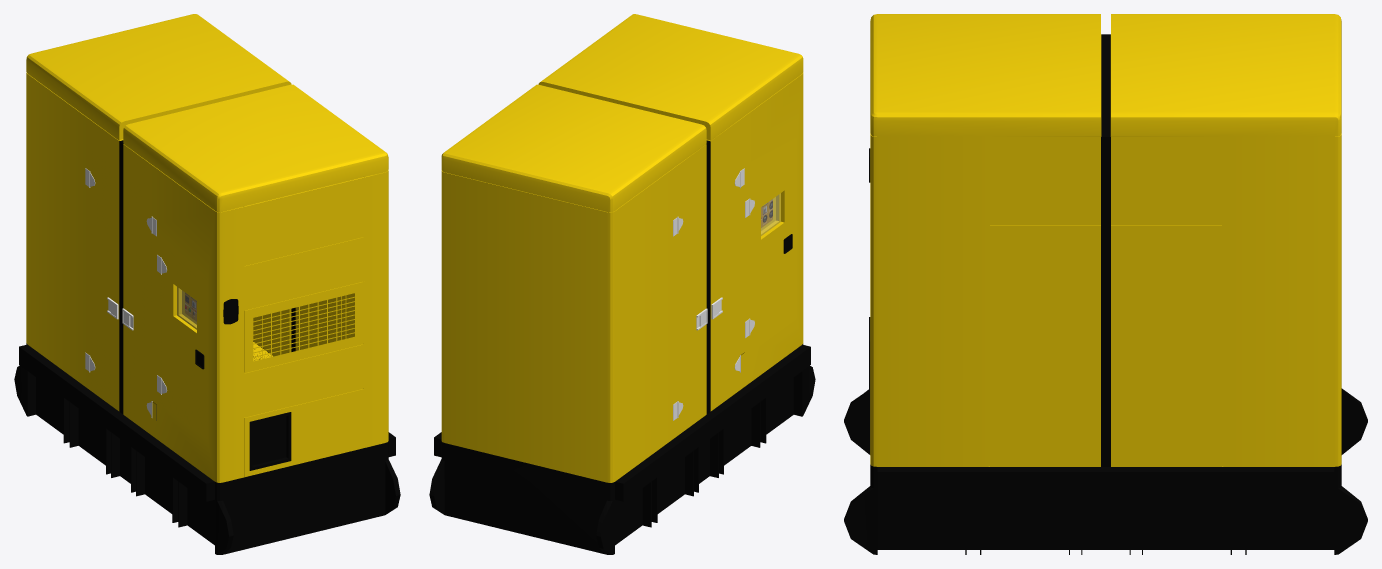
File: electric_generator.glb
The picture shows the model from 3 angles, left to right: view 1: azimuth 30°, elevation 25°; view 2: azimuth 150°, elevation 25°; view 3: azimuth 270°, elevation 25°; orthographic projection. The views are drawn at different scales.
Parts seen in each view (by area): view 1: Box027, Object003_Stainless Steel_0, Box028; view 2: Box027, Object003_Stainless Steel_0, Box028; view 3: Box027, Object003_Stainless Steel_0.
Boxes of the visible parts, bbox=[...] form: Box027: bbox=[26, 14, 388, 482]; Object003_Stainless Steel_0: bbox=[14, 341, 400, 554]; Box028: bbox=[162, 245, 207, 439]; Box027: bbox=[441, 14, 803, 482]; Object003_Stainless Steel_0: bbox=[429, 344, 815, 554]; Box028: bbox=[750, 151, 795, 346]; Box027: bbox=[869, 14, 1341, 466]; Object003_Stainless Steel_0: bbox=[844, 388, 1367, 554].
Size of the model in its own units: 30.52 by 55.49 by 59.82.
8 materials, 1 textured.
